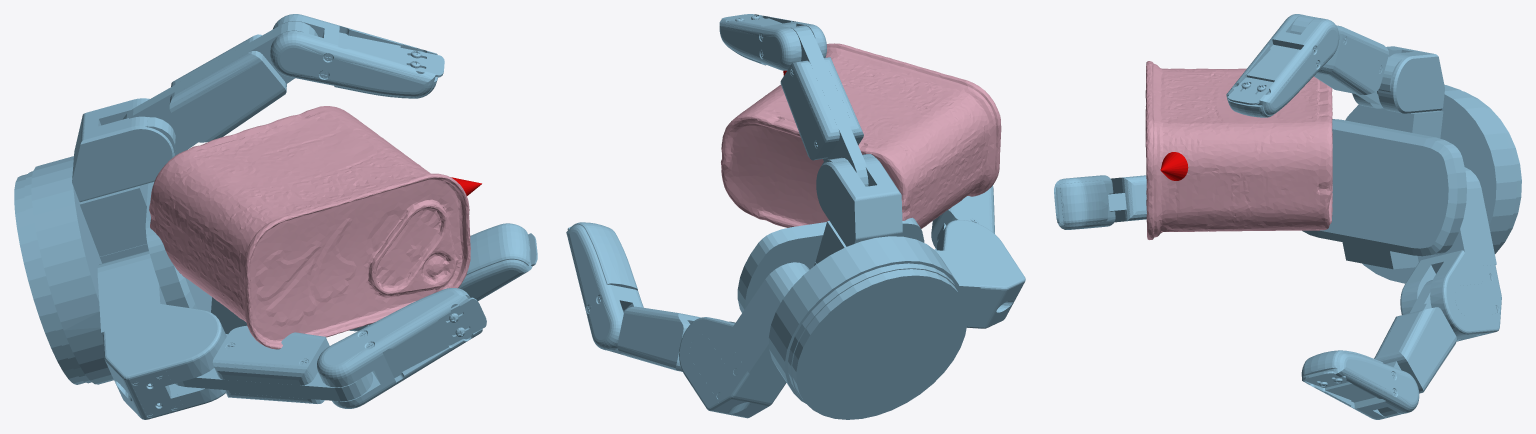
3 views of the same model, side by side, from view 1: azimuth 30°, elevation 25°; view 2: azimuth 150°, elevation 25°; view 3: azimuth 270°, elevation 25° (orthographic). The views are drawn at different scales.
Parts seen in each view (by area): view 1: world, potted_meat_can.stl; view 2: world, potted_meat_can.stl; view 3: world, potted_meat_can.stl.
Boxes of the visible parts, x1,y1,x2,y2 form: world: [14, 14, 537, 419]; potted_meat_can.stl: [149, 106, 470, 349]; world: [566, 14, 1025, 419]; potted_meat_can.stl: [721, 43, 1001, 228]; world: [1054, 14, 1521, 419]; potted_meat_can.stl: [1145, 61, 1332, 239].
Size of the model in its own units: 0.2169 by 0.165 by 0.2086.
